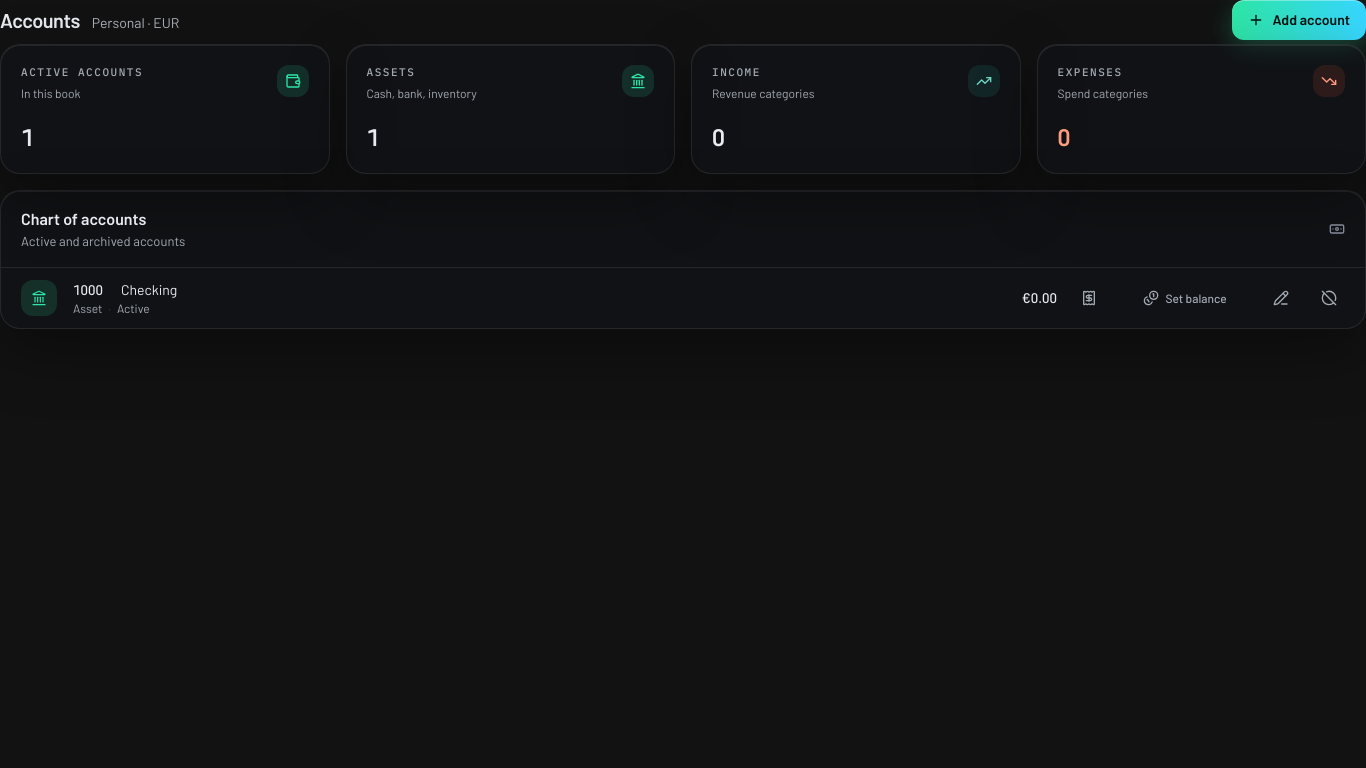
Test: AccountsPage form errors › a bad balance is explained inside the Set balance dialog, which starts on the amount
Expected: the text "Checking" is shown, [121,280,177,300]
Click the button with aria-label "Set balance for Checking" at (1185, 298), box [1121,282,1249,314]
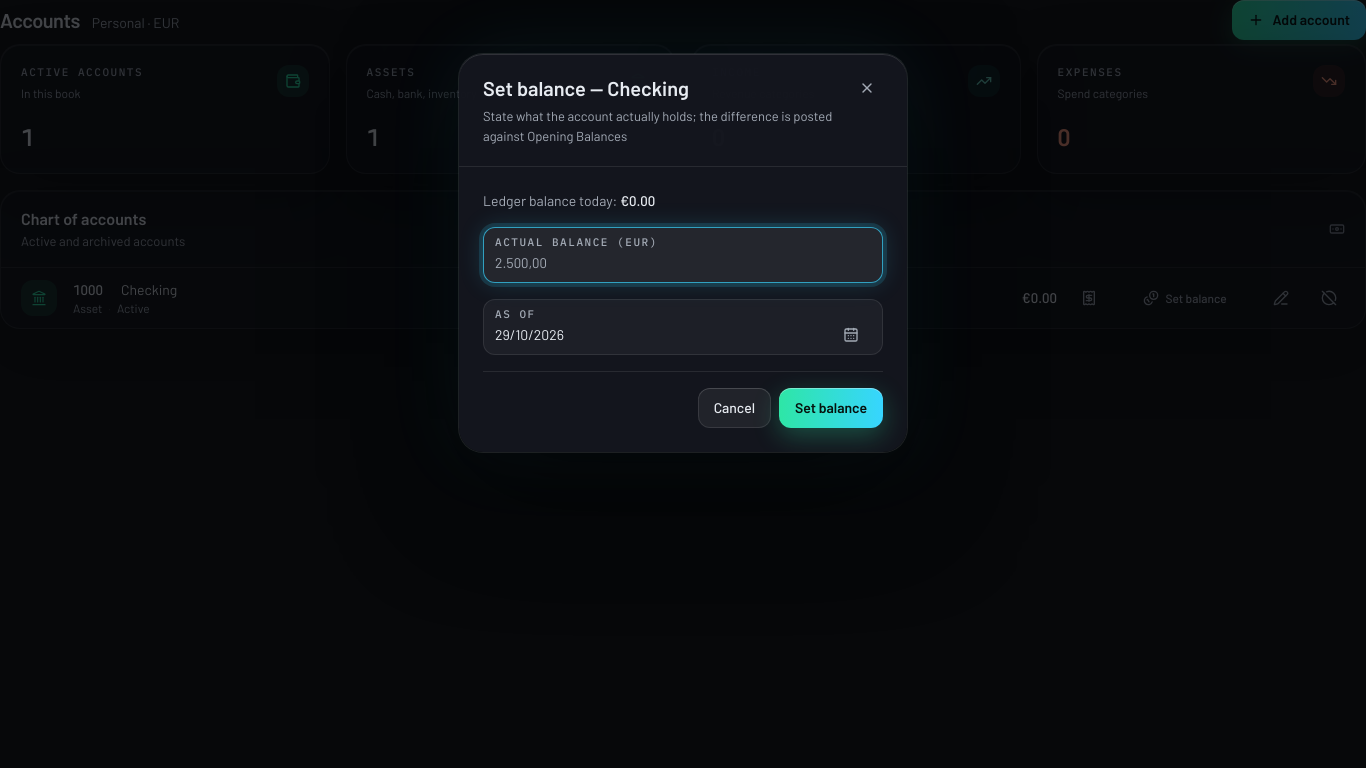
Type "abc" into the field labelled "Actual balance (EUR)" at (683, 263), box [495,251,871,275]
Then press Enter
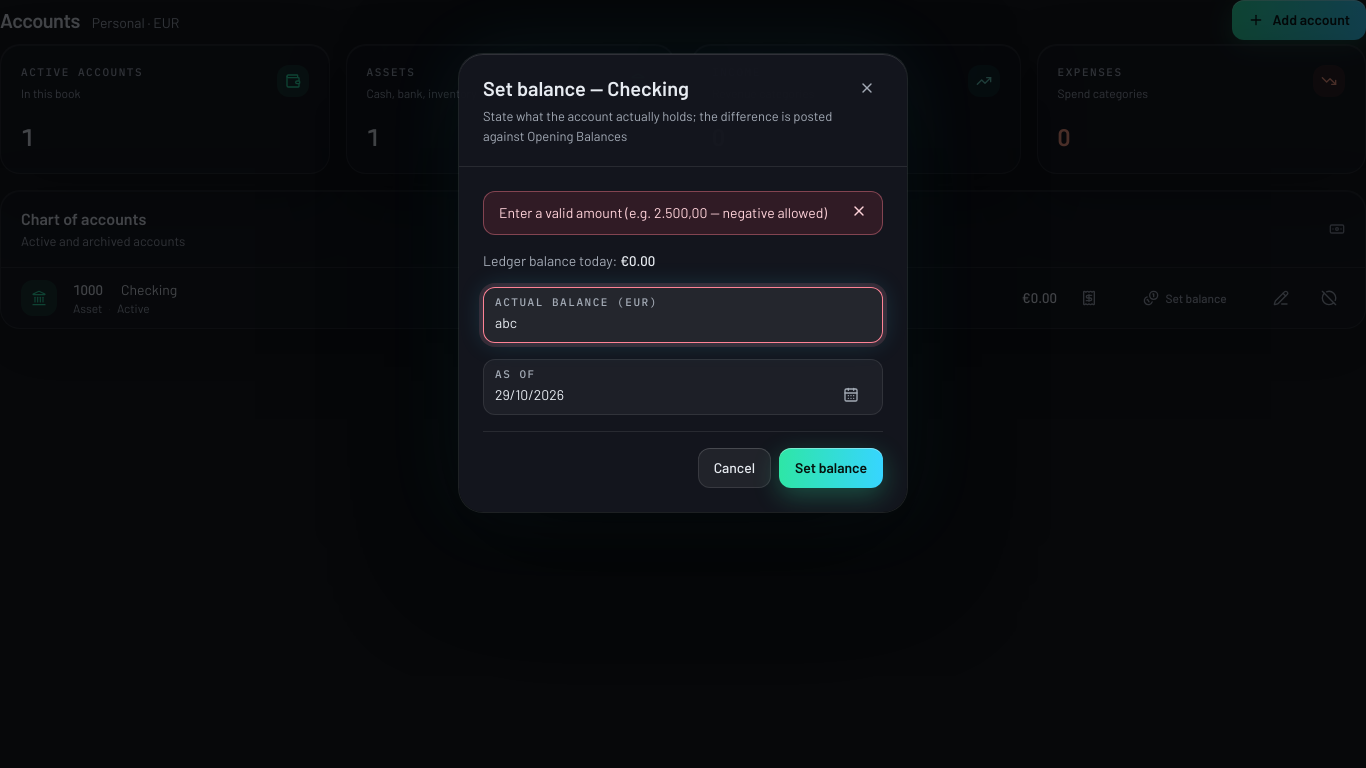
Expected: the message shows "Enter a valid amount", [499,204,827,221]
